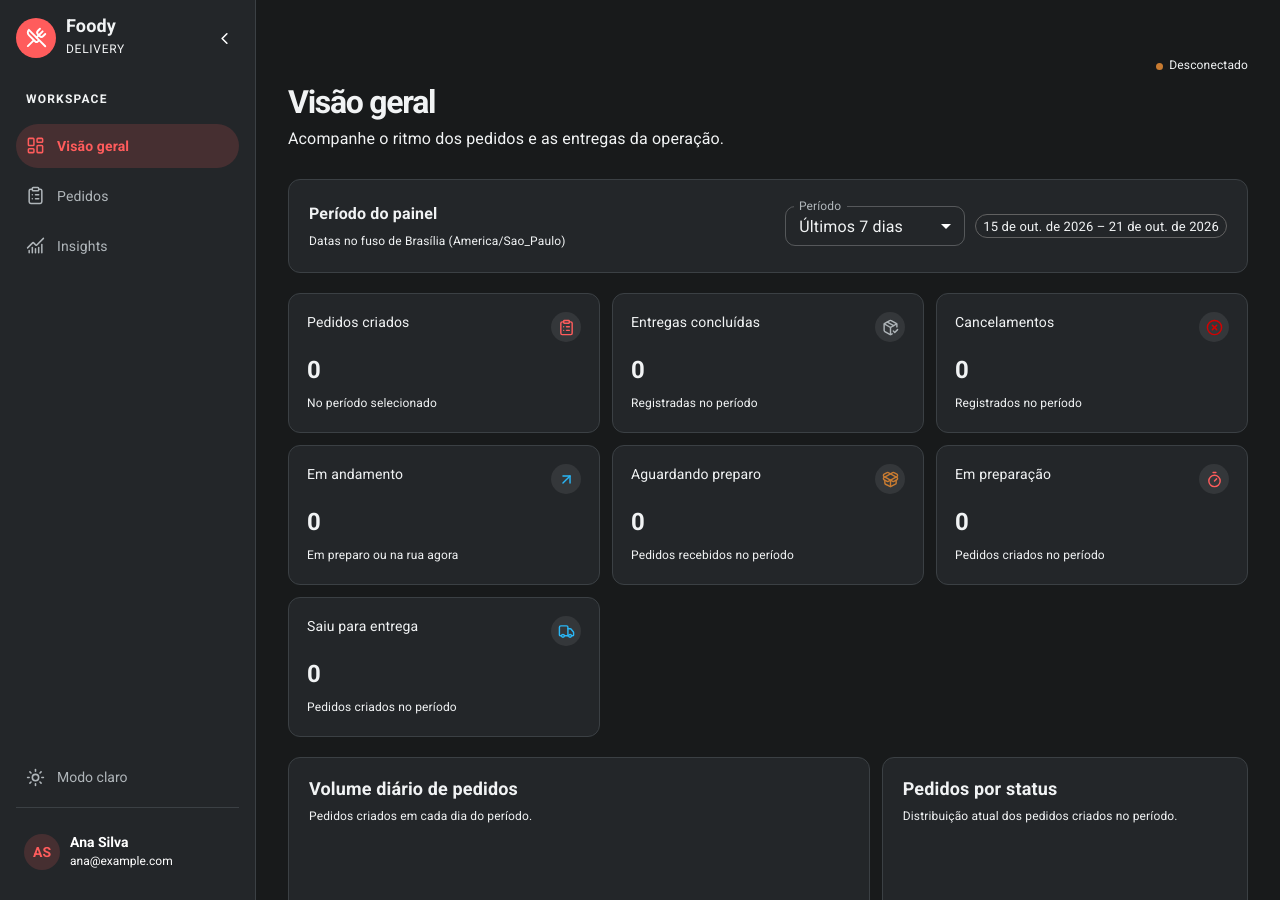
Test: autenticação e rotas › recolhe e expande a navegação lateral no desktop
Check: the heading "Visão geral" is shown, box [288,83,435,121]
Check: the text "Workspace" is shown, box [26,92,108,106]
Click the button named "Recolher barra lateral": x=224, y=38 [210,24,239,52]
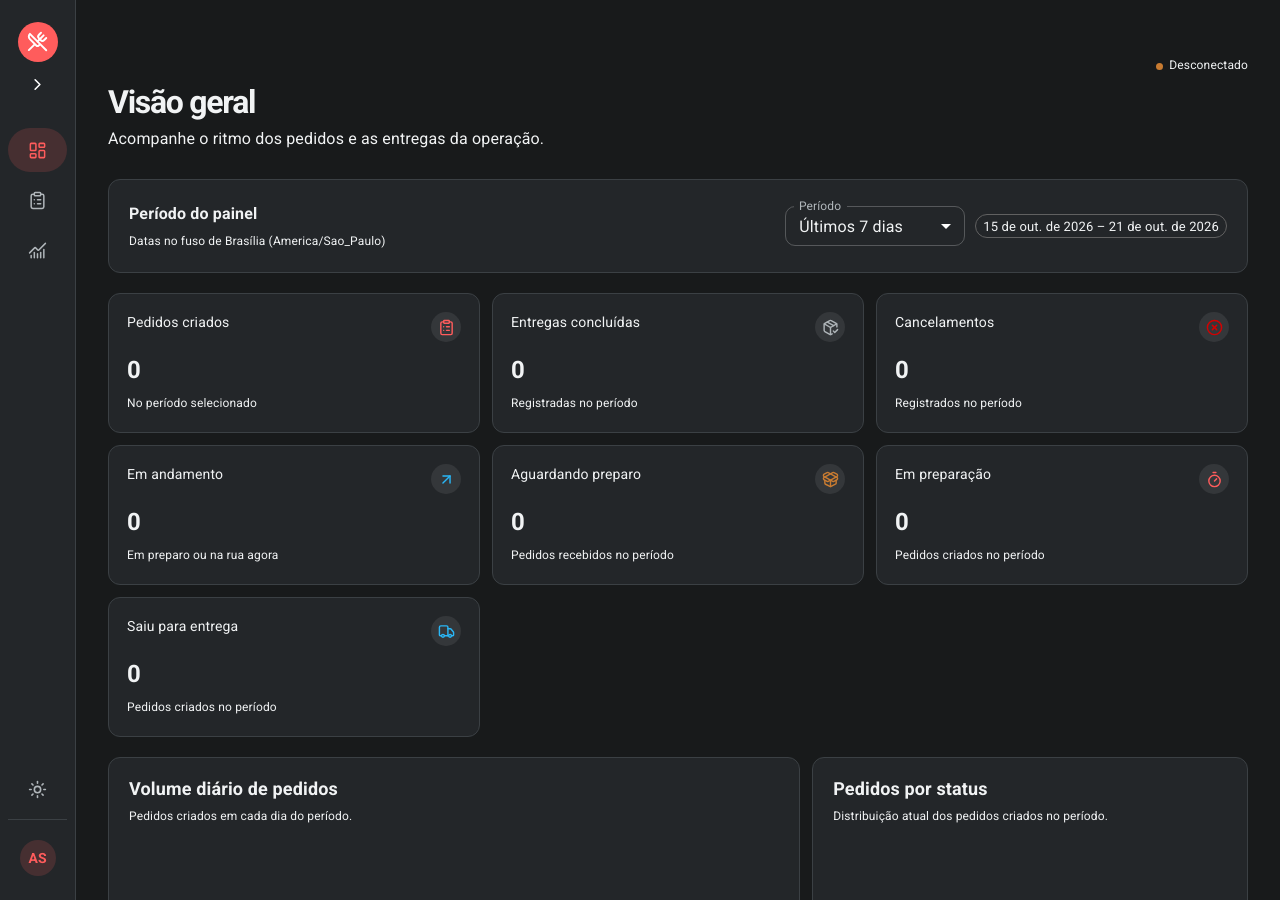
Check: the button named "Expandir barra lateral" is shown, box [23,70,52,98]
Check: the text "Workspace" is gone
Click the button with aria-label "Abrir menu do usuário": x=38, y=858 [8,832,67,884]
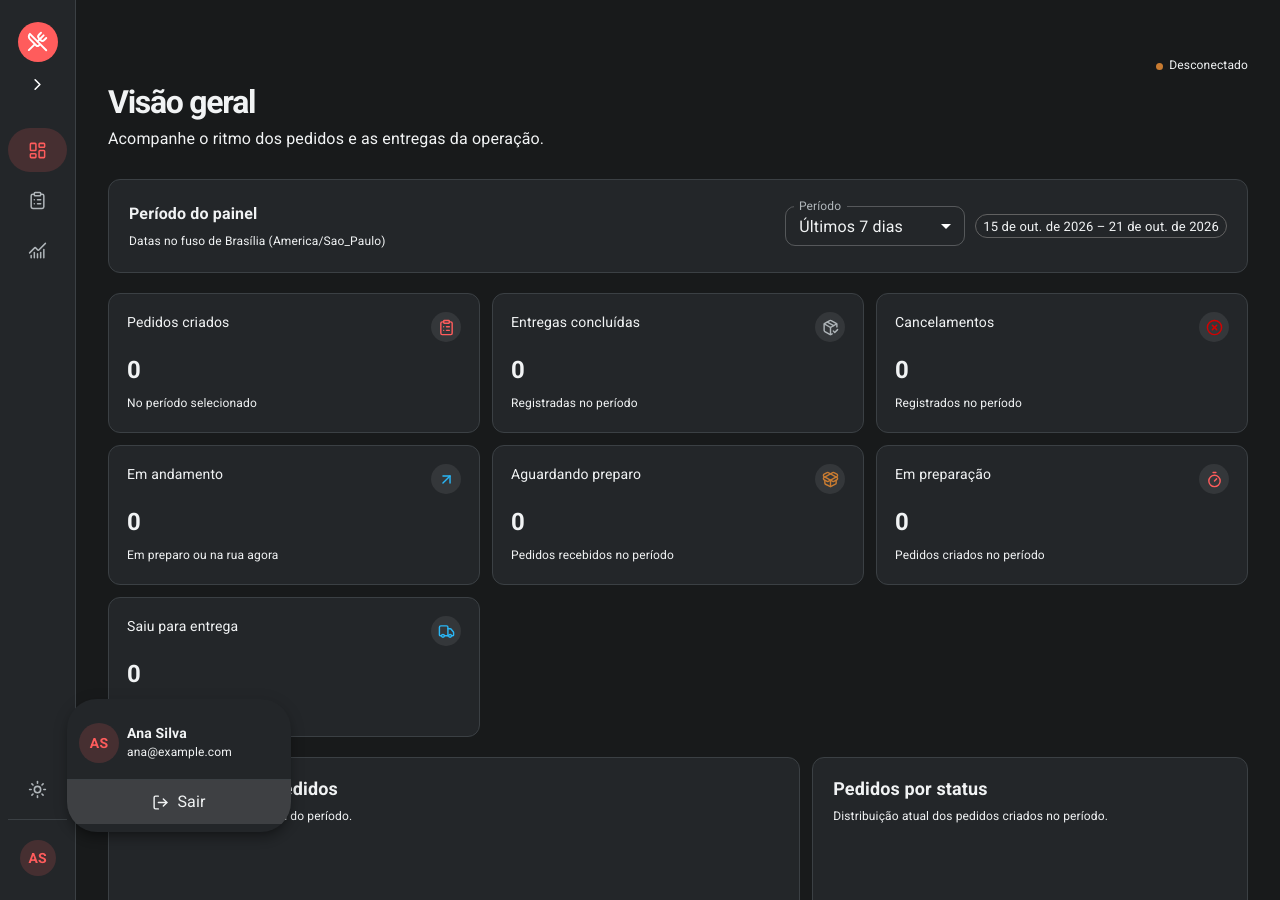
Check: the menu is shown, box [67,699,291,832]
Press Escape
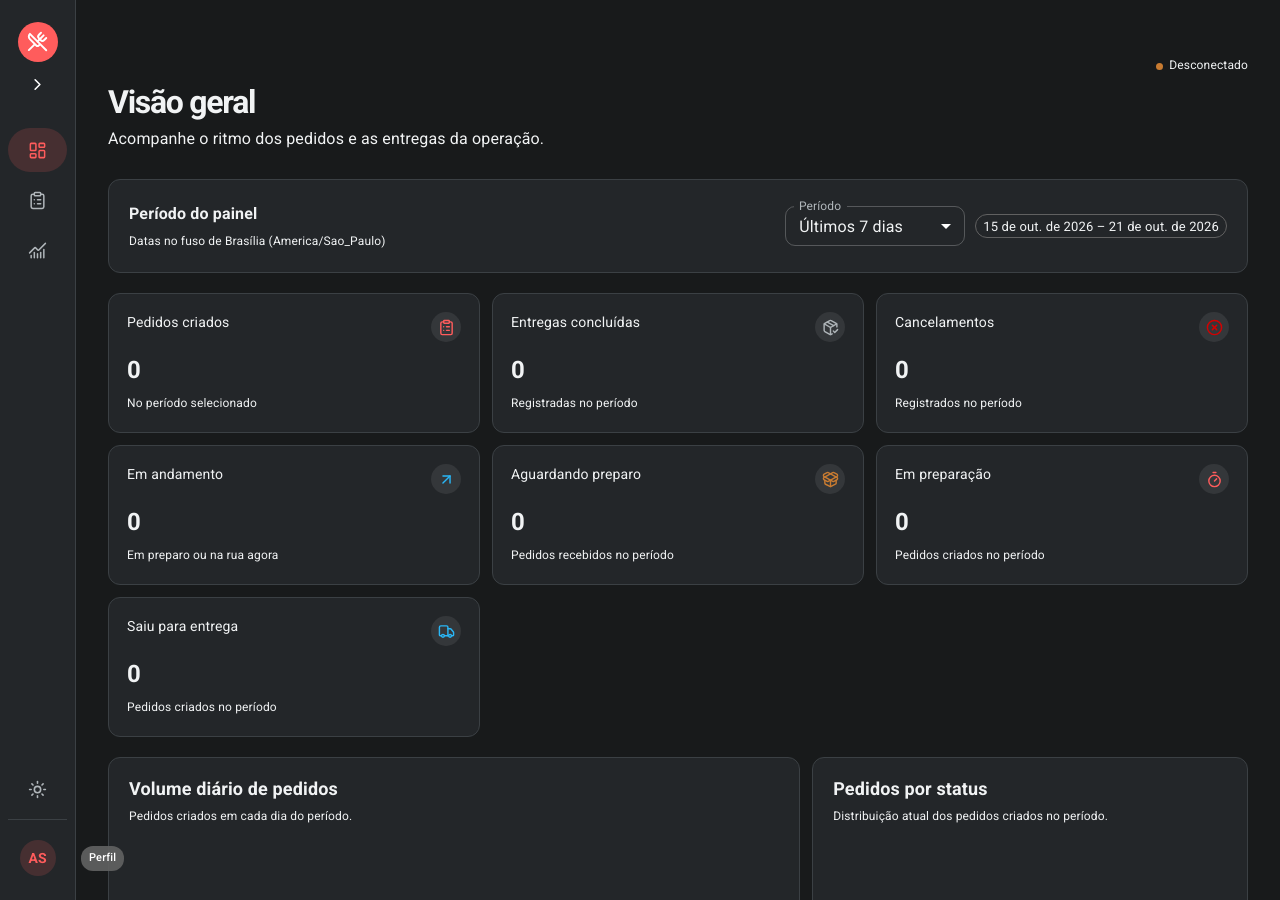
Click the button named "Expandir barra lateral": x=38, y=84 [23,70,52,98]
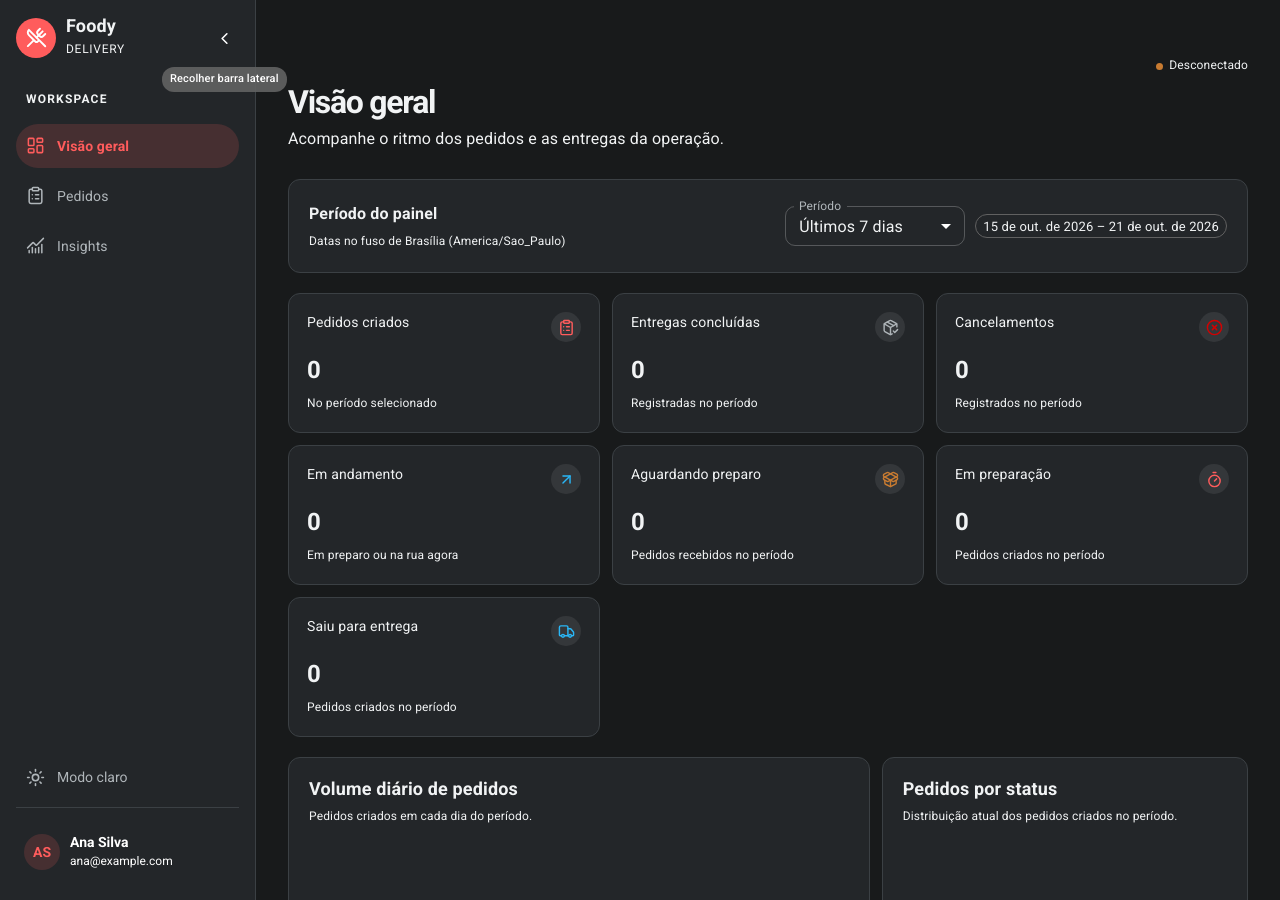
Check: the text "Workspace" is shown, box [26,92,108,106]
